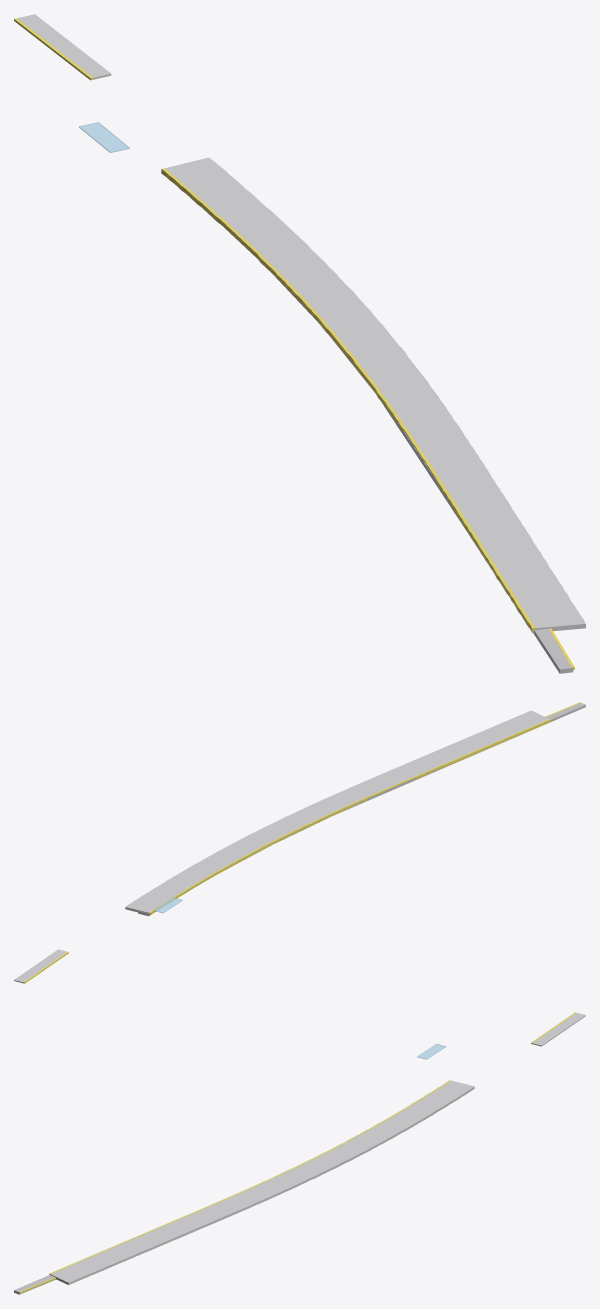
File: 8507084-moos.glb
3 views of the same model, one above another, from view 1: azimuth 30°, elevation 25°; view 2: azimuth 150°, elevation 25°; view 3: azimuth 330°, elevation 25° (orthographic). The views are drawn at different scales.
Visible parts, largest first — view 1: platform_body@0, boarding_edge@0, platform_surface@0; view 2: platform_body@0, boarding_edge@0, platform_surface@0; view 3: platform_body@0, boarding_edge@0.
Part boxes in pixels (x1,y1,x2,y2): platform_body@0: (17,14,585,631); boarding_edge@0: (14,18,574,669); platform_surface@0: (281,283,573,673); platform_body@0: (14,710,548,983); boarding_edge@0: (23,702,580,983); platform_surface@0: (138,703,585,916); platform_body@0: (50,1012,585,1284); boarding_edge@0: (19,1012,576,1293).
Bounding box in the file's own units: 36.01 × 5.05 × 181.
